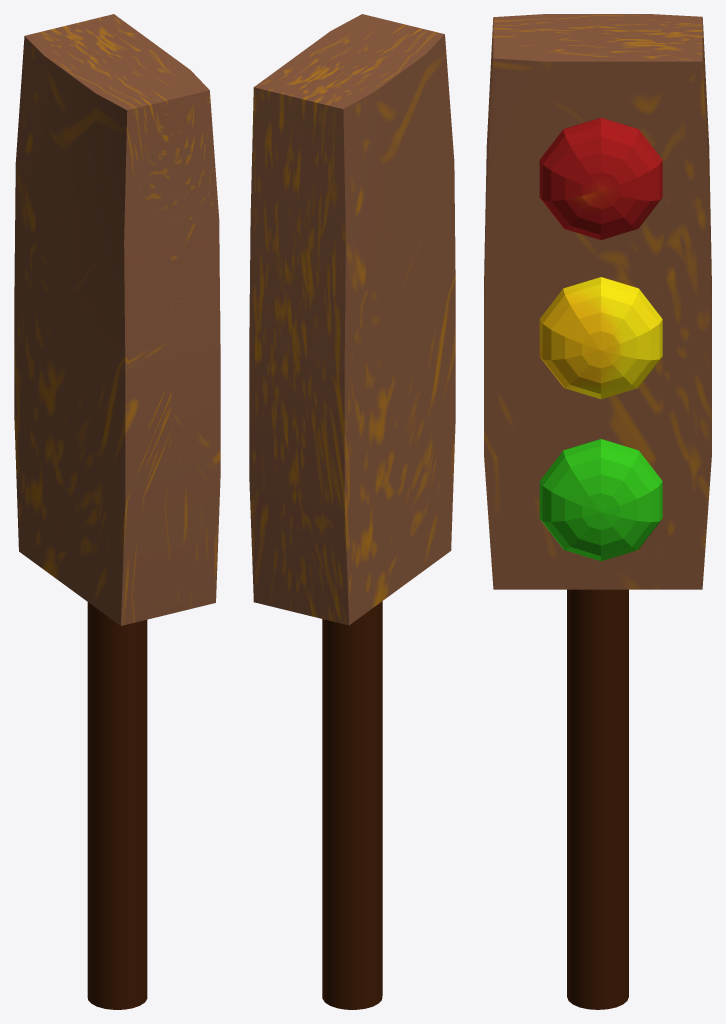
Rendered from butterfinger signal.fbx.
3 views of the same model, side by side, from view 1: azimuth 30°, elevation 25°; view 2: azimuth 150°, elevation 25°; view 3: azimuth 270°, elevation 25° (orthographic). The views are drawn at different scales.
Visible parts, largest first — view 1: pCube2; view 2: pCube2; view 3: pCube2.
Part boxes in pixels (x1,y1,x2,y2): pCube2: [14, 14, 220, 1009]; pCube2: [249, 14, 455, 1009]; pCube2: [484, 14, 711, 1009].
Size of the model in its own units: 2.07 by 13.91 by 2.99.
Materials: 1 (1 with a texture image).
